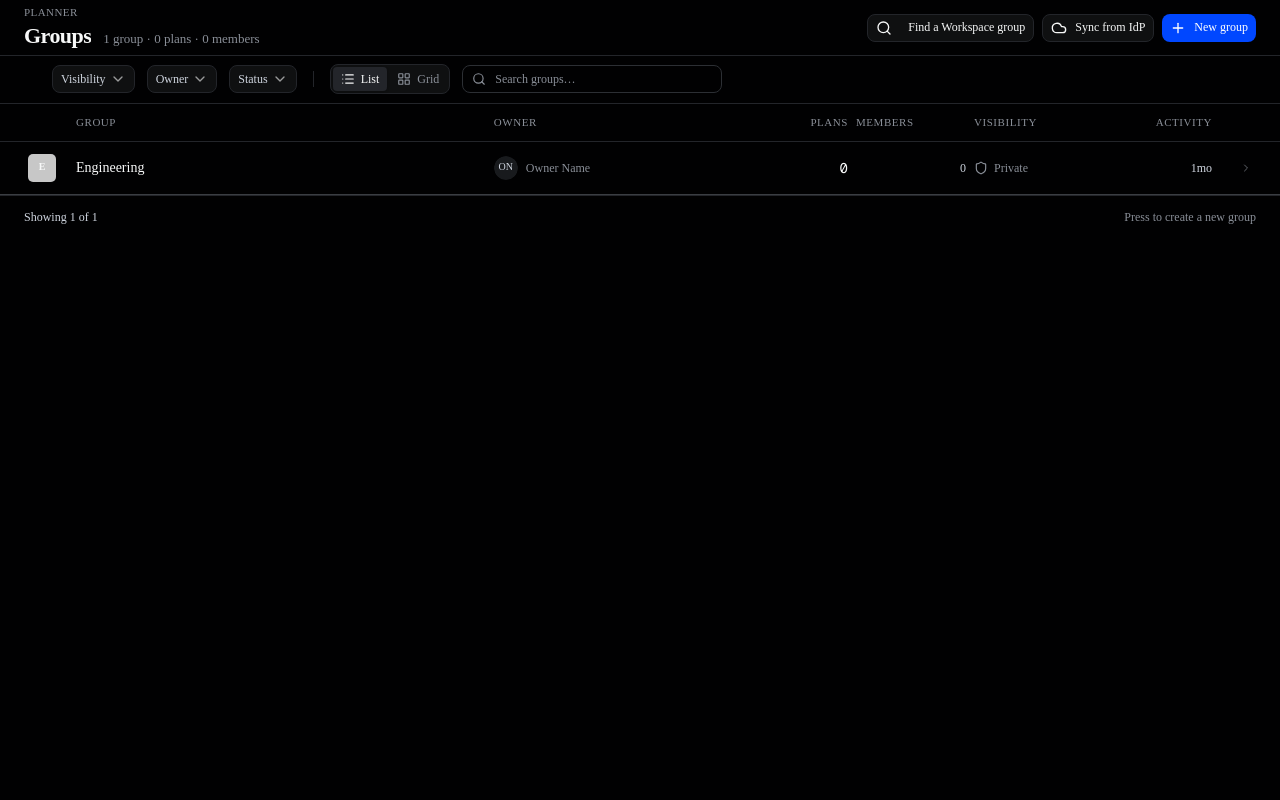
Scenario: GroupsPage › clicking "Sync from IdP" opens the group selector dialog
Check: the text "Engineering" is shown, box [76,160,144,174]
Click the button "Sync from IdP": (1098, 28) [1042,14,1154,42]
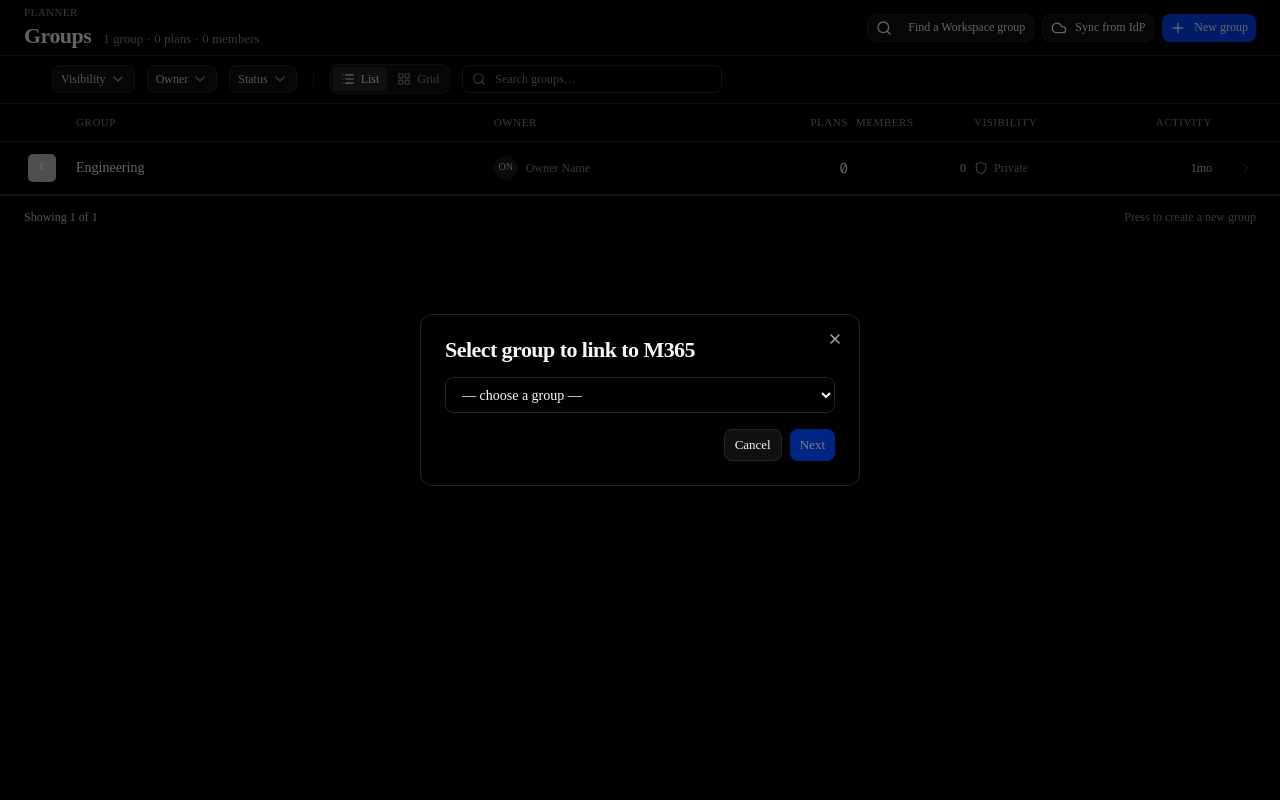
Check: the dialog "Select group to link to M365 Cancel Next" is shown, box [420,314,860,486]
